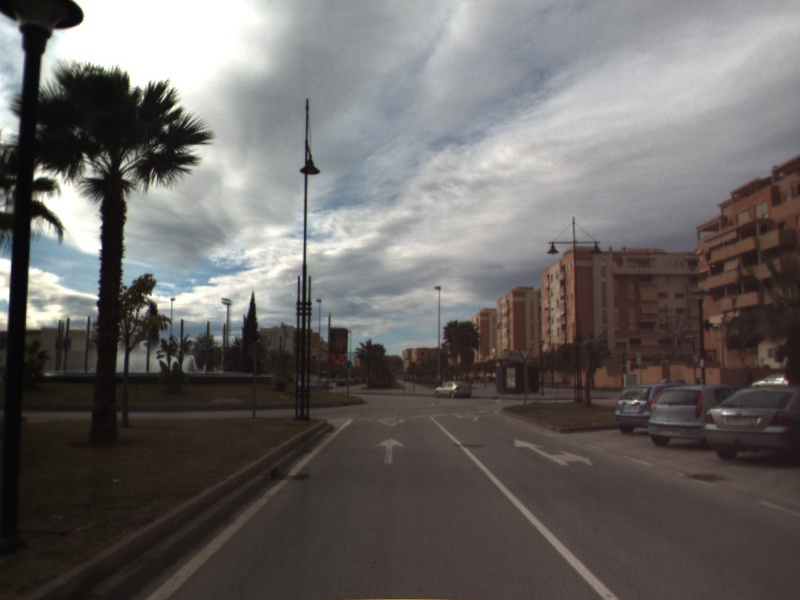STRAIGHT: (374, 436, 406, 466)
STRAIGHT_RIGHT: (513, 437, 594, 468)
